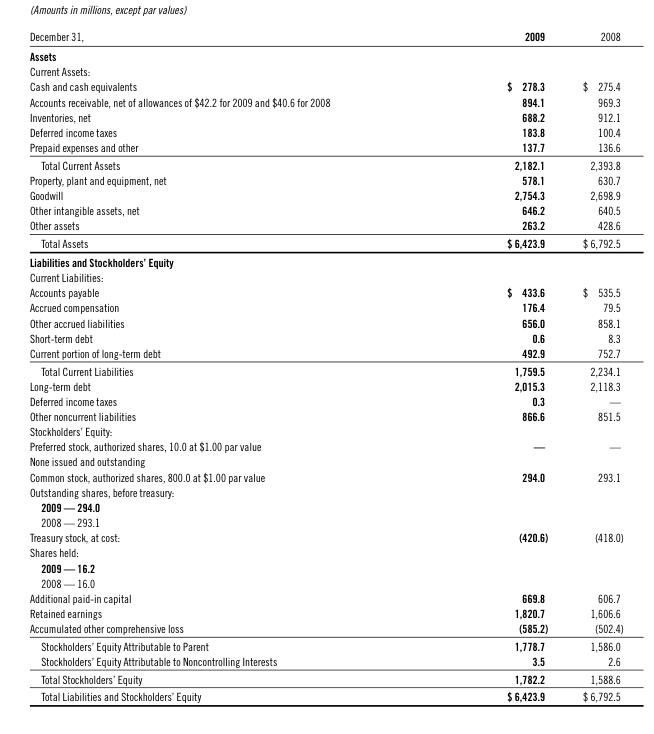table: (28, 28, 622, 702)
table column: (28, 28, 417, 702), (417, 28, 564, 702), (564, 28, 622, 702)
table column header: (28, 28, 622, 45)
table projected row header: (28, 45, 622, 63), (28, 252, 622, 269), (28, 559, 622, 575), (28, 63, 622, 78), (28, 269, 622, 284), (28, 423, 622, 438), (28, 453, 622, 468), (28, 484, 622, 499), (28, 499, 622, 514), (28, 514, 622, 529), (28, 544, 622, 559), (28, 575, 622, 589)
table row: (28, 45, 622, 63), (28, 234, 622, 252), (28, 669, 622, 687), (28, 28, 622, 45), (28, 155, 622, 172), (28, 217, 622, 234), (28, 252, 622, 269), (28, 636, 622, 653), (28, 93, 622, 109), (28, 139, 622, 155), (28, 314, 622, 330), (28, 345, 622, 361), (28, 361, 622, 377), (28, 377, 622, 393), (28, 468, 622, 484), (28, 559, 622, 575), (28, 589, 622, 605), (28, 620, 622, 636), (28, 653, 622, 669), (28, 63, 622, 78), (28, 78, 622, 93), (28, 109, 622, 124), (28, 124, 622, 139), (28, 172, 622, 187), (28, 187, 622, 202), (28, 202, 622, 217), (28, 269, 622, 284), (28, 284, 622, 299), (28, 299, 622, 314), (28, 330, 622, 345), (28, 393, 622, 408), (28, 408, 622, 423), (28, 423, 622, 438), (28, 438, 622, 453), (28, 453, 622, 468), (28, 484, 622, 499), (28, 499, 622, 514), (28, 514, 622, 529), (28, 529, 622, 544), (28, 544, 622, 559), (28, 605, 622, 620), (28, 687, 622, 702), (28, 575, 622, 589)
